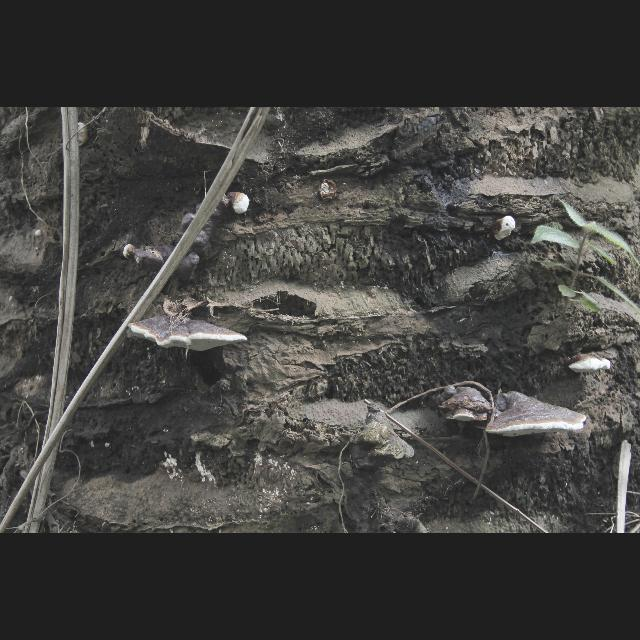ganoderma: (136, 193, 228, 277), (127, 314, 250, 353), (487, 392, 588, 438), (439, 387, 496, 423), (569, 356, 612, 375)
primordium: (494, 217, 517, 242), (230, 193, 251, 215), (124, 245, 137, 261)
